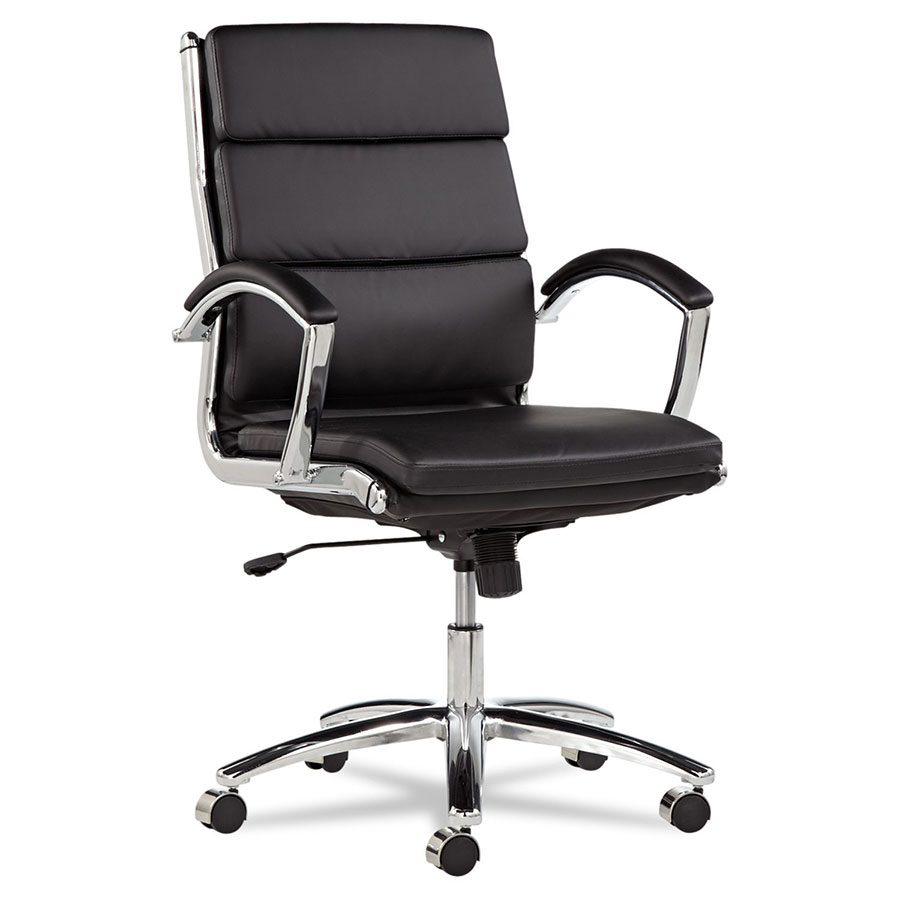chairs: (161, 19, 725, 877)
